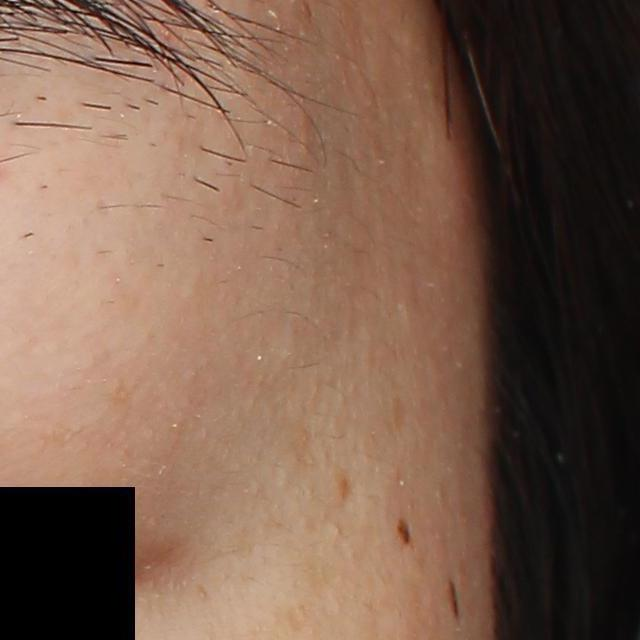nevus: (445, 574, 463, 625), (394, 512, 413, 546)
